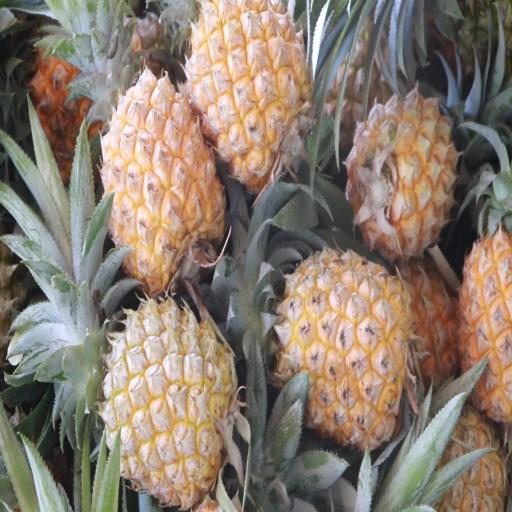Pineapple - v8 v1: (102, 299, 234, 501), (102, 72, 227, 284), (276, 252, 407, 449), (186, 0, 312, 173), (351, 89, 457, 253), (457, 227, 512, 421)
